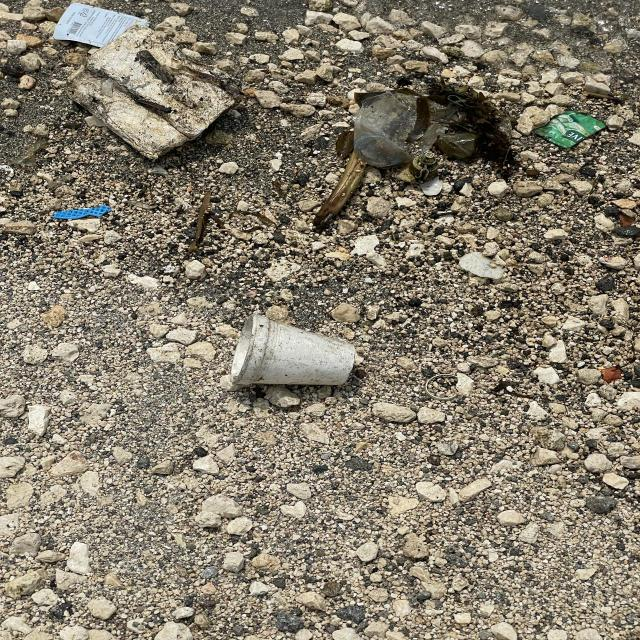plastic_waste: (53, 3, 145, 47), (536, 113, 609, 151)
styrofoam_waste: (230, 315, 357, 387)
